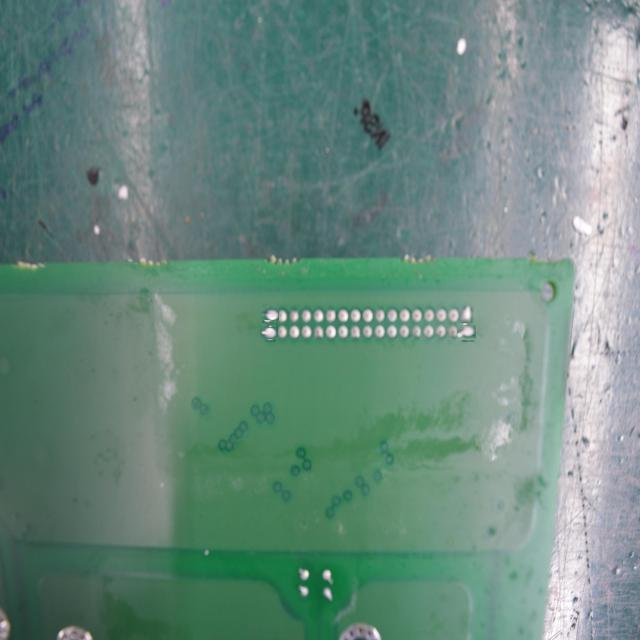slug: (260, 304, 278, 322), (458, 324, 476, 341), (262, 325, 277, 341)
